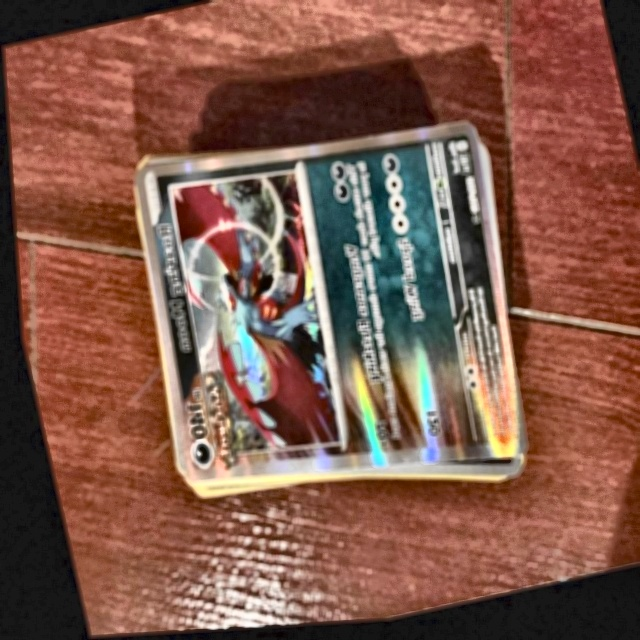card: (131, 126, 520, 485)
